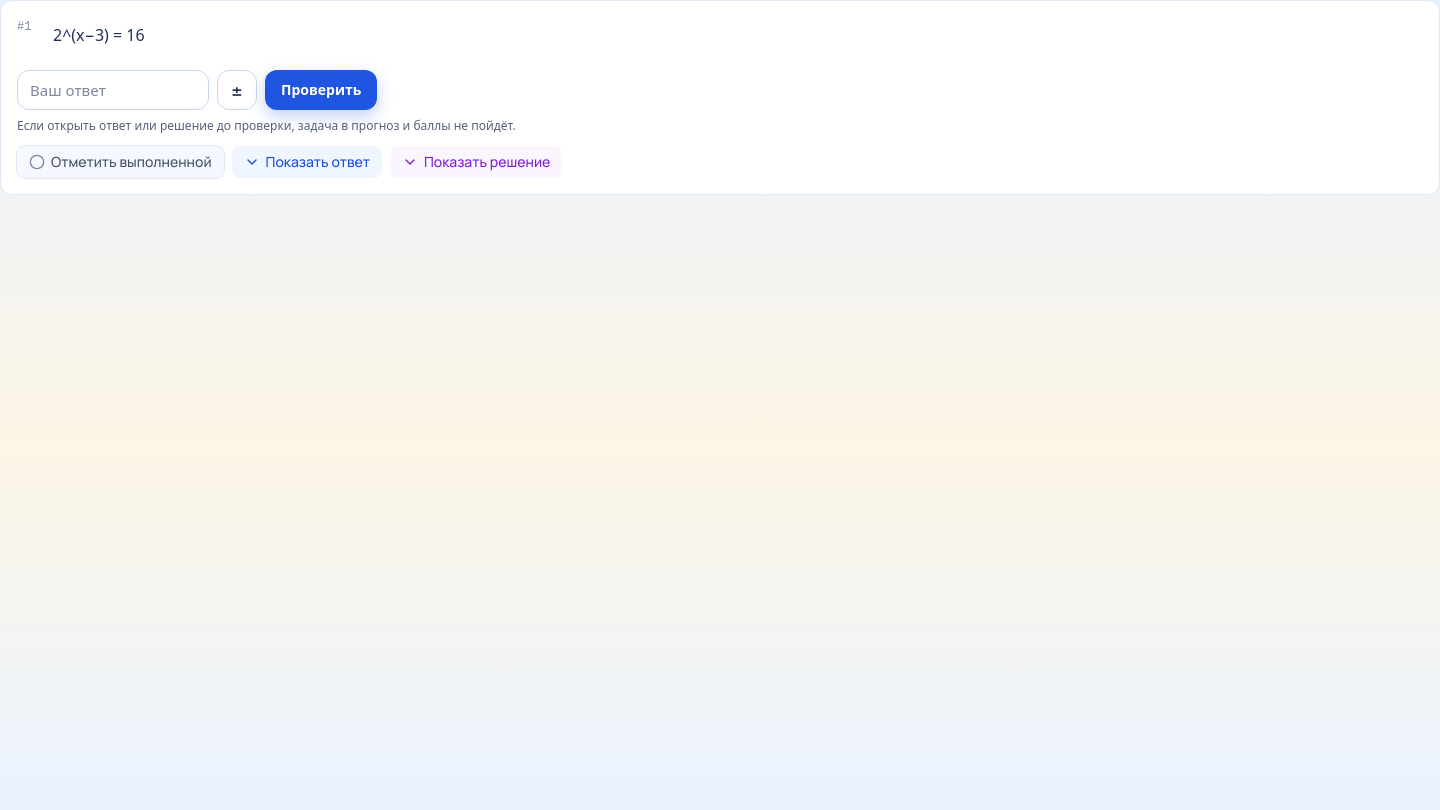
TaskDisplayCard — проверка ответа (§256) › «Показать решение» — тоже через раскрытие; ошибка раскрытия — ответа не показываем
Click the button with test id "task-show-solution".
click(476, 162)  # box [390,146,562,178]
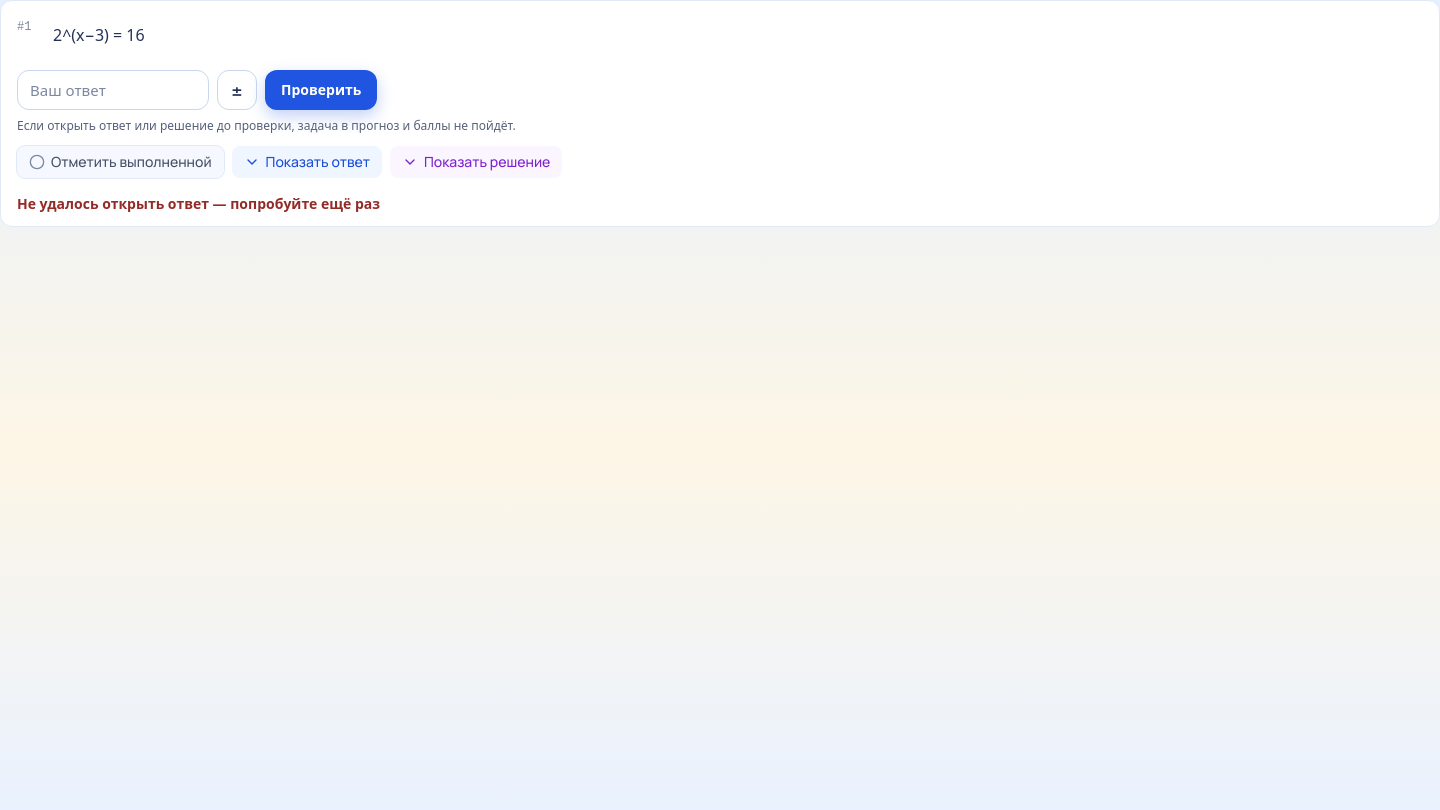
Expected: the message shows "Не удалось открыть ответ", [17,194,380,213]
